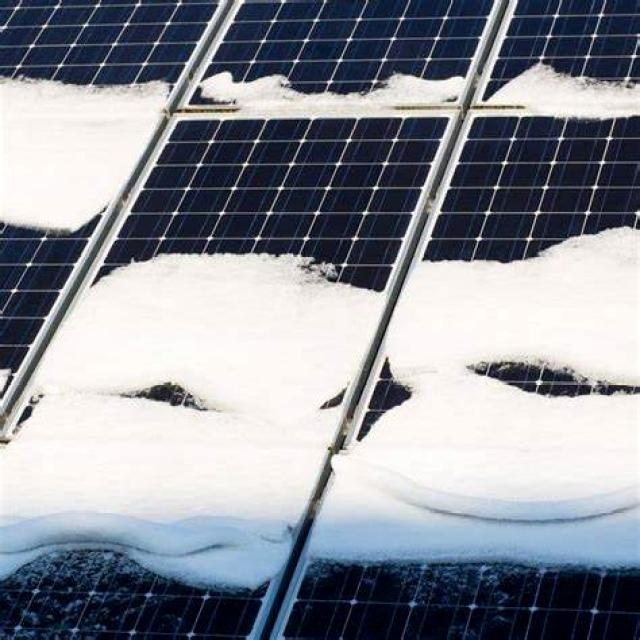panel: (0, 498, 299, 617), (314, 528, 628, 617), (104, 235, 393, 312), (396, 219, 640, 309), (90, 336, 248, 437), (0, 41, 183, 127), (491, 35, 635, 144), (458, 347, 640, 413), (332, 30, 464, 120), (310, 366, 426, 452), (198, 50, 310, 126), (0, 178, 115, 248), (32, 275, 102, 365), (0, 356, 60, 440), (108, 132, 186, 190)
